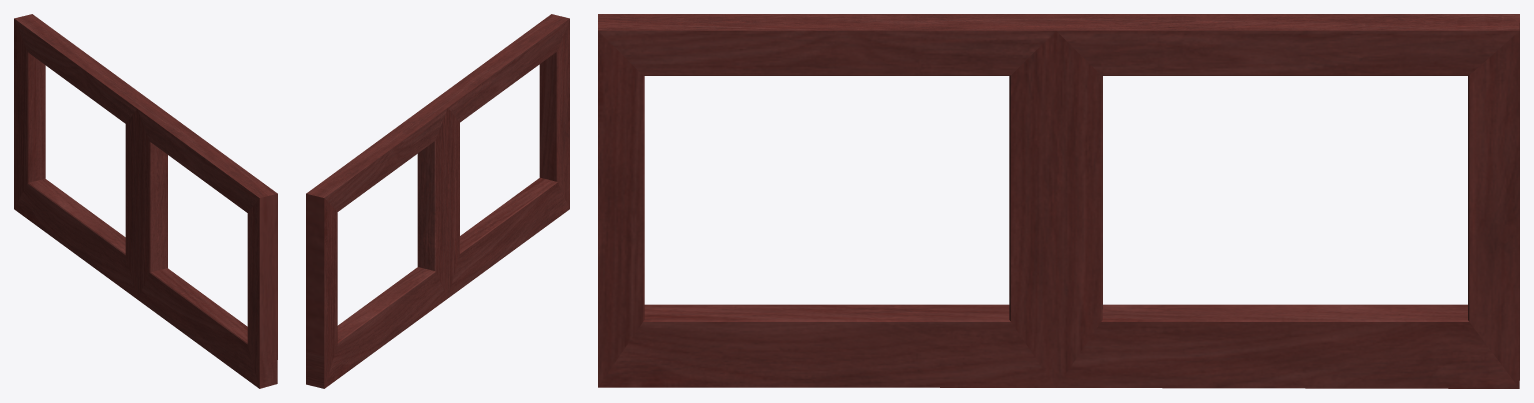
The model's file is SM_GJJ_2F_Windowframe01D.fbx.
3 views of the same model, side by side, from view 1: azimuth 30°, elevation 25°; view 2: azimuth 150°, elevation 25°; view 3: azimuth 270°, elevation 25° (orthographic). The views are drawn at different scales.
Parts seen in each view (by area): view 1: SM_GJJ_2F_Windowframe01D; view 2: SM_GJJ_2F_Windowframe01D; view 3: SM_GJJ_2F_Windowframe01D.
Boxes of the visible parts, x1,y1,x2,y2 form: SM_GJJ_2F_Windowframe01D: (14,14,277,388); SM_GJJ_2F_Windowframe01D: (306,14,569,388); SM_GJJ_2F_Windowframe01D: (598,14,1519,388).
Bounding box in the file's own units: 4.53 × 105 × 45.11.
1 material, 1 textured.
